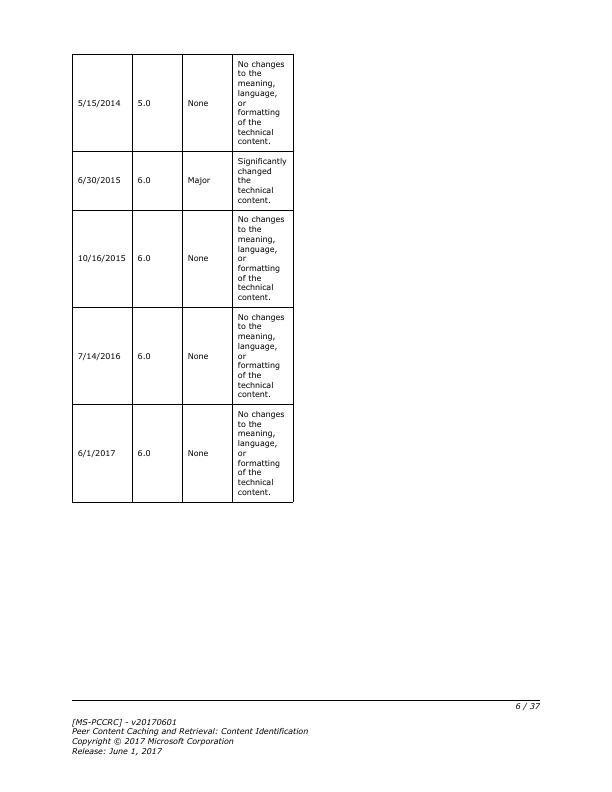table: (71, 52, 296, 503)
text: (68, 714, 311, 758)
